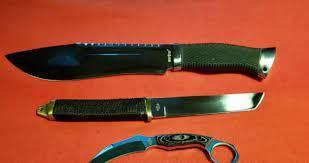Knife: (4, 42, 276, 82), (37, 91, 265, 123), (89, 134, 239, 163)
